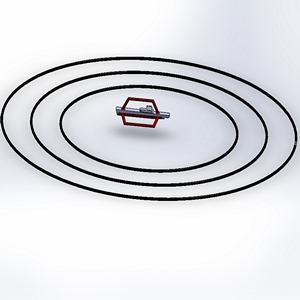circle: (1, 49, 300, 204)
submarine: (108, 91, 176, 136)
